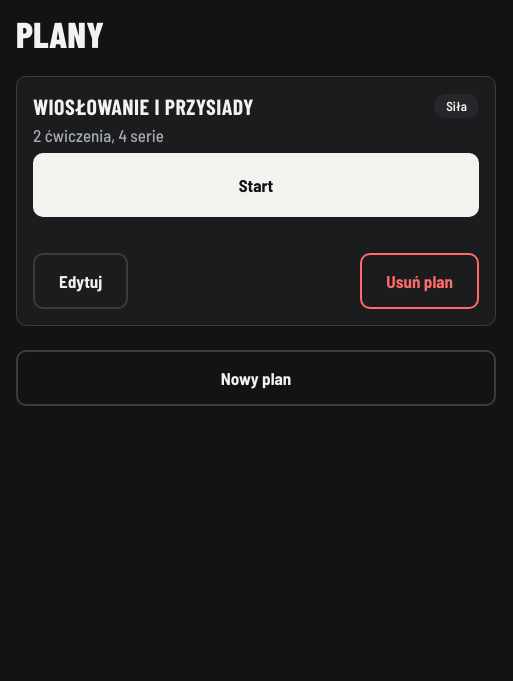
Test case: "Cofnij" and "Pomiń serię" on the set view › skipping the last set opens the end screen, which has no undo
Click the button "Start" at (256, 185), box x1=33 y1=153 x2=479 y2=217
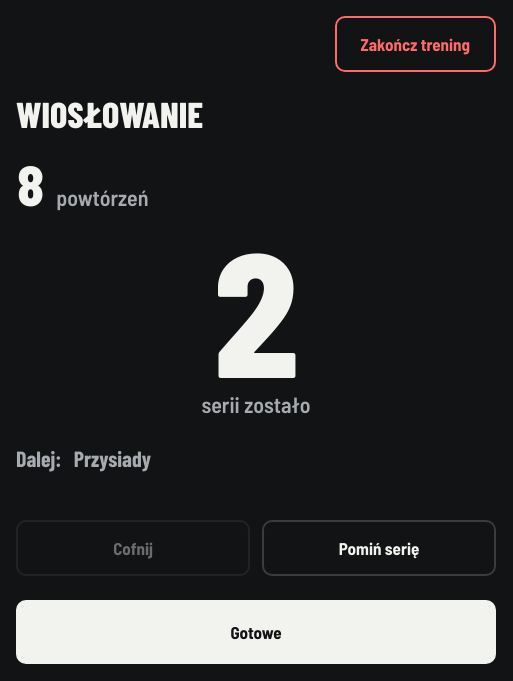
Click the button "Pomiń serię" at (379, 548), box x1=262 y1=520 x2=496 y2=576
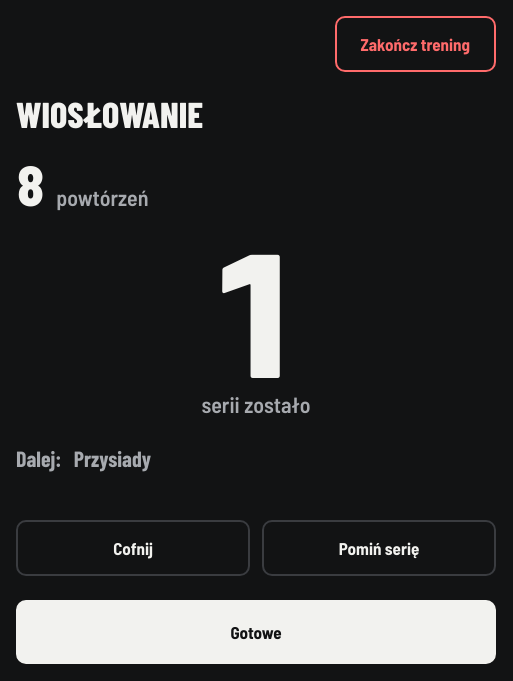
Click the button "Pomiń serię" at (379, 548), box x1=262 y1=520 x2=496 y2=576
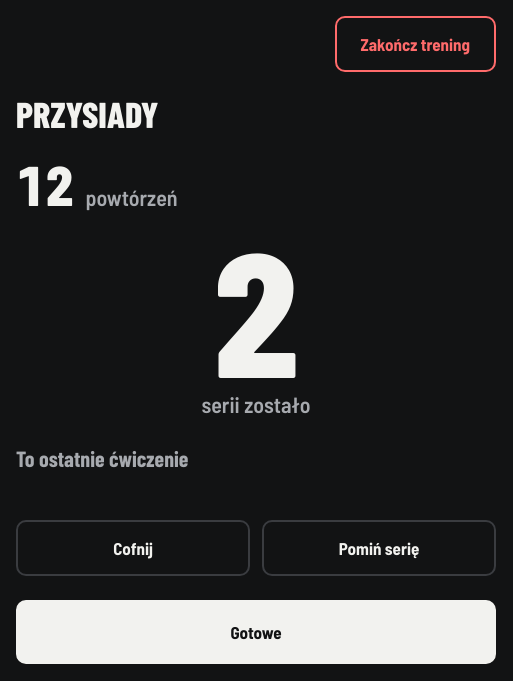
Click the button "Pomiń serię" at (379, 548), box x1=262 y1=520 x2=496 y2=576
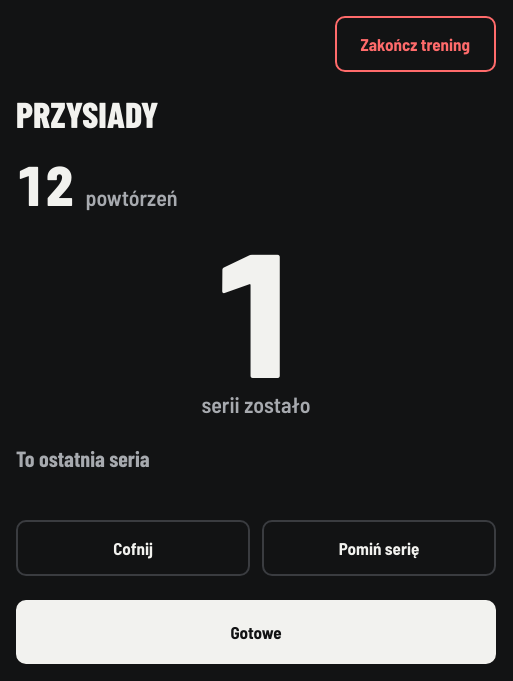
Expected: the heading "Przysiady" is shown, x1=16 y1=92 x2=159 y2=135
Click the button "Pomiń serię" at (379, 548), box x1=262 y1=520 x2=496 y2=576
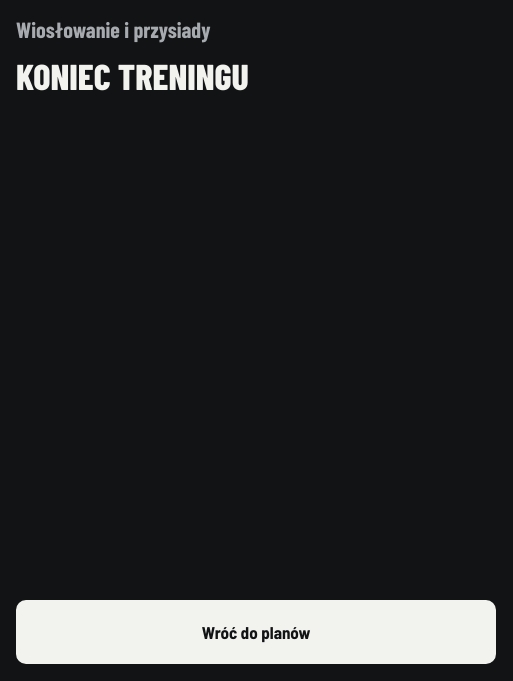
Expected: the heading "Koniec treningu" is shown, x1=16 y1=54 x2=249 y2=97
Expected: the buttons read "Wróć do planów", in this order, x1=16 y1=600 x2=496 y2=664
